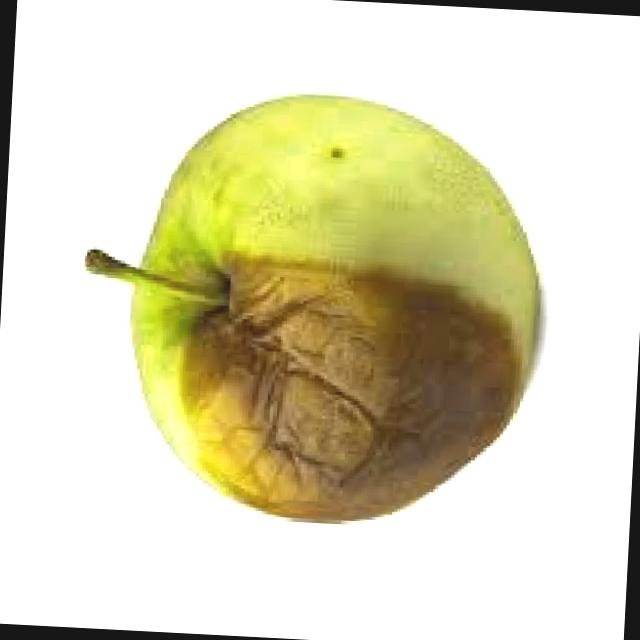Rotten Apple: (117, 84, 551, 534)
